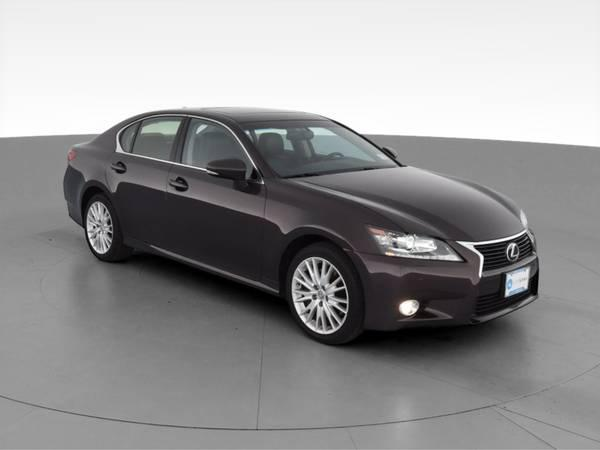Front_Bumper: (347, 240, 540, 328)
Front_Fender: (260, 174, 406, 295)
Front_Right_Door: (167, 165, 267, 286)
Front_Right_Window: (176, 118, 265, 184)
Front_Windshield: (240, 118, 400, 176)
Grille: (451, 229, 536, 274)
Hood: (288, 160, 534, 239)
Rear_Fender: (63, 147, 113, 226)
Rear_Right_Door: (105, 154, 171, 256)
Rear_Right_Window: (112, 114, 187, 162)
Right_Headlight: (367, 224, 467, 262)
Roof: (75, 105, 328, 179)
Wheel: (282, 243, 359, 343), (82, 198, 118, 260)
